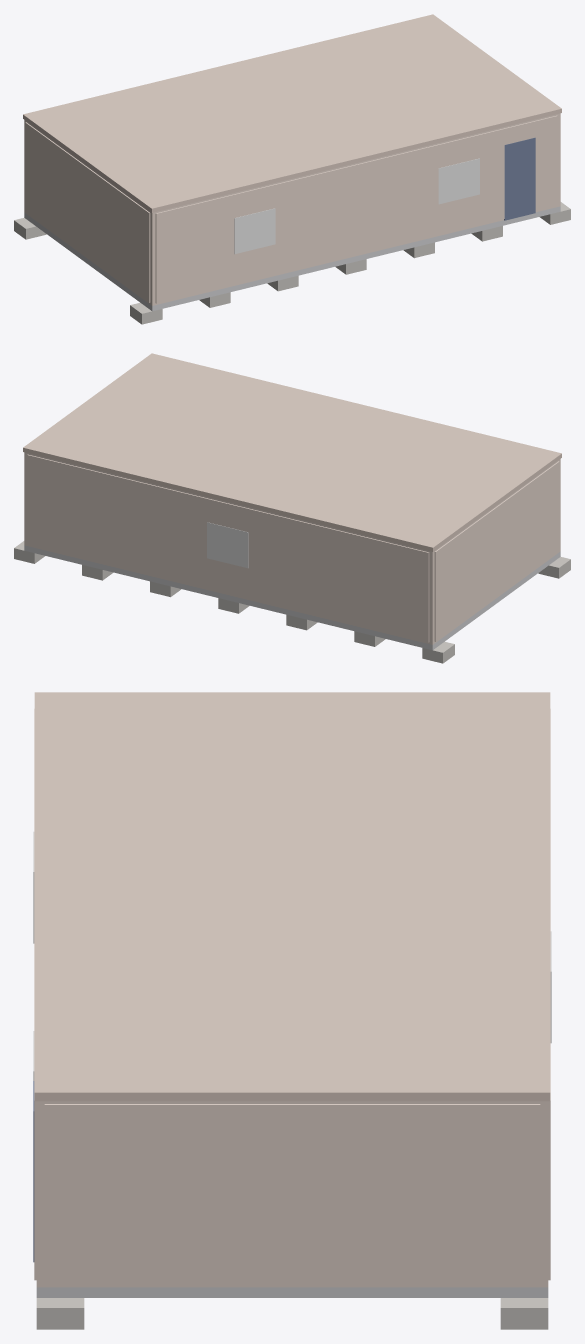
Rendered from Studio-40-Base-Mauve-LOD0.glb.
3 renders of one model, top to bottom at view 1: azimuth 30°, elevation 25°; view 2: azimuth 150°, elevation 25°; view 3: azimuth 270°, elevation 25°, orthographic. The views are drawn at different scales.
Parts seen in each view (by area): view 1: RoofMain, ExteriorPanelsStandard, BaseFrame, WindowsStandard, ExteriorShell, FoundationBlocks, EntryDoor; view 2: RoofMain, ExteriorPanelsStandard, BaseFrame, ExteriorShell, FoundationBlocks, WindowsStandard; view 3: RoofMain, ExteriorPanelsStandard, ExteriorShell, BaseFrame, FoundationBlocks.
Part boxes in pixels (bbox=[...]): RoofMain: bbox=[23, 14, 561, 212]; ExteriorPanelsStandard: bbox=[25, 115, 557, 303]; BaseFrame: bbox=[24, 206, 560, 311]; WindowsStandard: bbox=[234, 158, 479, 254]; ExteriorShell: bbox=[24, 113, 560, 305]; FoundationBlocks: bbox=[14, 202, 570, 324]; EntryDoor: bbox=[504, 137, 535, 220]; RoofMain: bbox=[23, 353, 561, 551]; ExteriorPanelsStandard: bbox=[27, 454, 559, 642]; BaseFrame: bbox=[24, 545, 560, 650]; ExteriorShell: bbox=[24, 452, 560, 644]; FoundationBlocks: bbox=[14, 541, 570, 663]; WindowsStandard: bbox=[207, 522, 248, 568]; RoofMain: bbox=[34, 692, 550, 1101]; ExteriorPanelsStandard: bbox=[34, 709, 550, 1284]; ExteriorShell: bbox=[36, 1101, 548, 1287]; BaseFrame: bbox=[36, 1287, 548, 1297]; FoundationBlocks: bbox=[36, 1298, 548, 1329].
Bounding box in the file's own units: 12.49 × 3.17 × 6.53.
